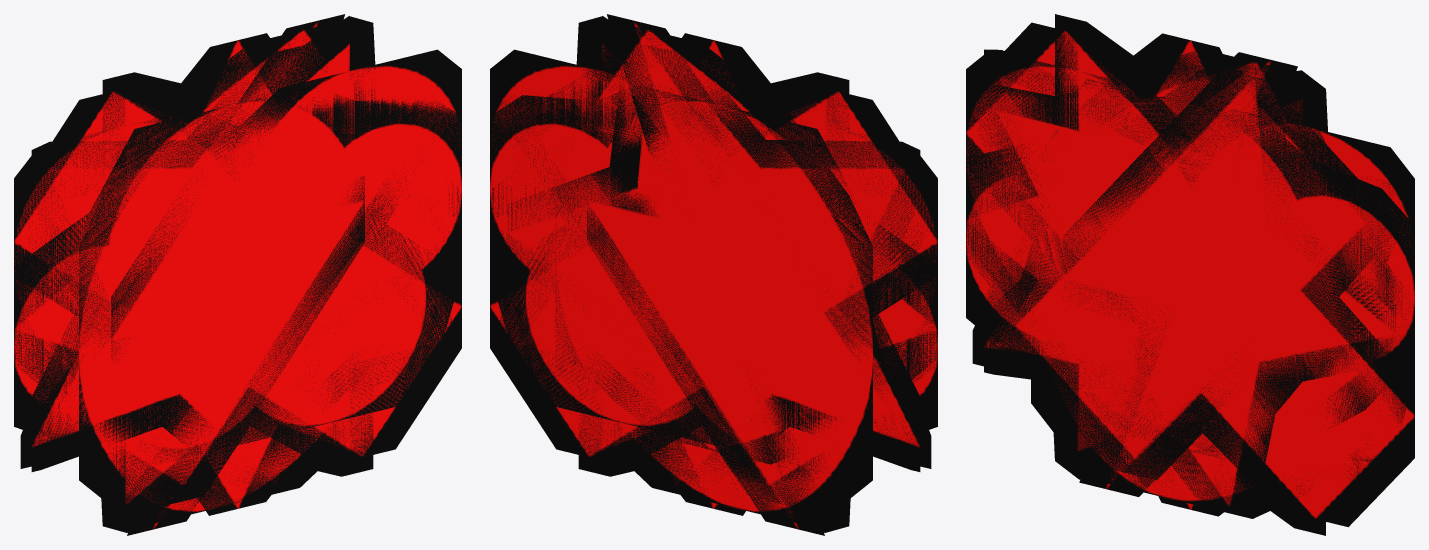
The model's file is shapes-80-xMobG.glb.
3 views of the same model, side by side, from view 1: azimuth 30°, elevation 25°; view 2: azimuth 150°, elevation 25°; view 3: azimuth 330°, elevation 25° (orthographic).
Visible parts, largest first — view 1: cloud, cross, star, stamp, droplet, heart, lightning; view 2: droplet, cross, star, cloud, lightning, heart, stamp; view 3: cross, stamp, cloud, heart, star, lightning, droplet.
Boxes of the visible parts, x1=… form: cloud: x1=14, y1=94, x2=461, y2=464; cross: x1=14, y1=45, x2=461, y2=505; star: x1=31, y1=31, x2=439, y2=493; stamp: x1=14, y1=16, x2=461, y2=532; droplet: x1=79, y1=21, x2=392, y2=527; heart: x1=14, y1=49, x2=461, y2=432; lightning: x1=111, y1=14, x2=364, y2=535; droplet: x1=555, y1=21, x2=872, y2=527; cross: x1=490, y1=45, x2=937, y2=505; star: x1=507, y1=47, x2=920, y2=492; cloud: x1=490, y1=85, x2=937, y2=465; lightning: x1=587, y1=14, x2=835, y2=535; heart: x1=490, y1=49, x2=937, y2=464; stamp: x1=490, y1=16, x2=937, y2=532; cross: x1=966, y1=22, x2=1414, y2=527; stamp: x1=966, y1=14, x2=1412, y2=535; cloud: x1=966, y1=79, x2=1414, y2=480; heart: x1=966, y1=49, x2=1414, y2=458; star: x1=984, y1=49, x2=1396, y2=513; lightning: x1=1063, y1=52, x2=1317, y2=496; droplet: x1=1031, y1=49, x2=1329, y2=518.
Size of the model in its own units: 1 by 1 by 0.
Materials: 1 (1 with a texture image).
